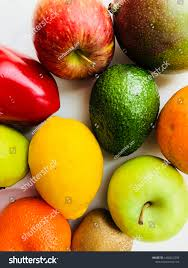aguacate: (88, 64, 168, 162)
